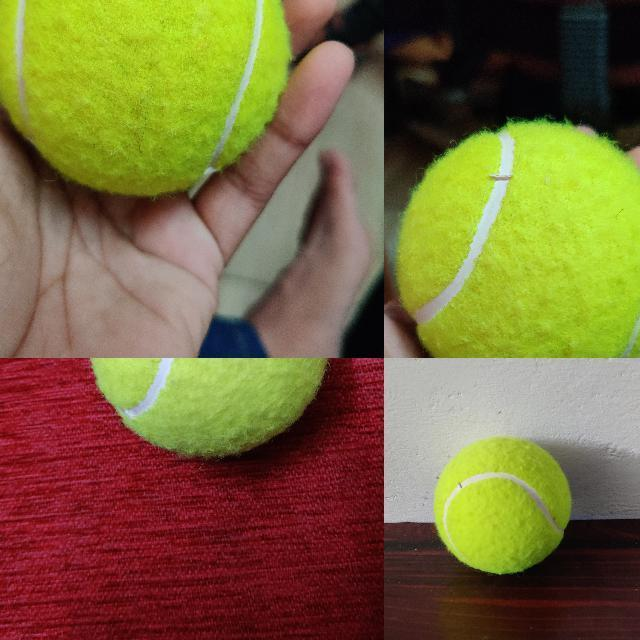tennis-ball: (395, 123, 639, 357), (0, 0, 289, 193), (87, 358, 329, 459), (433, 436, 572, 574)
